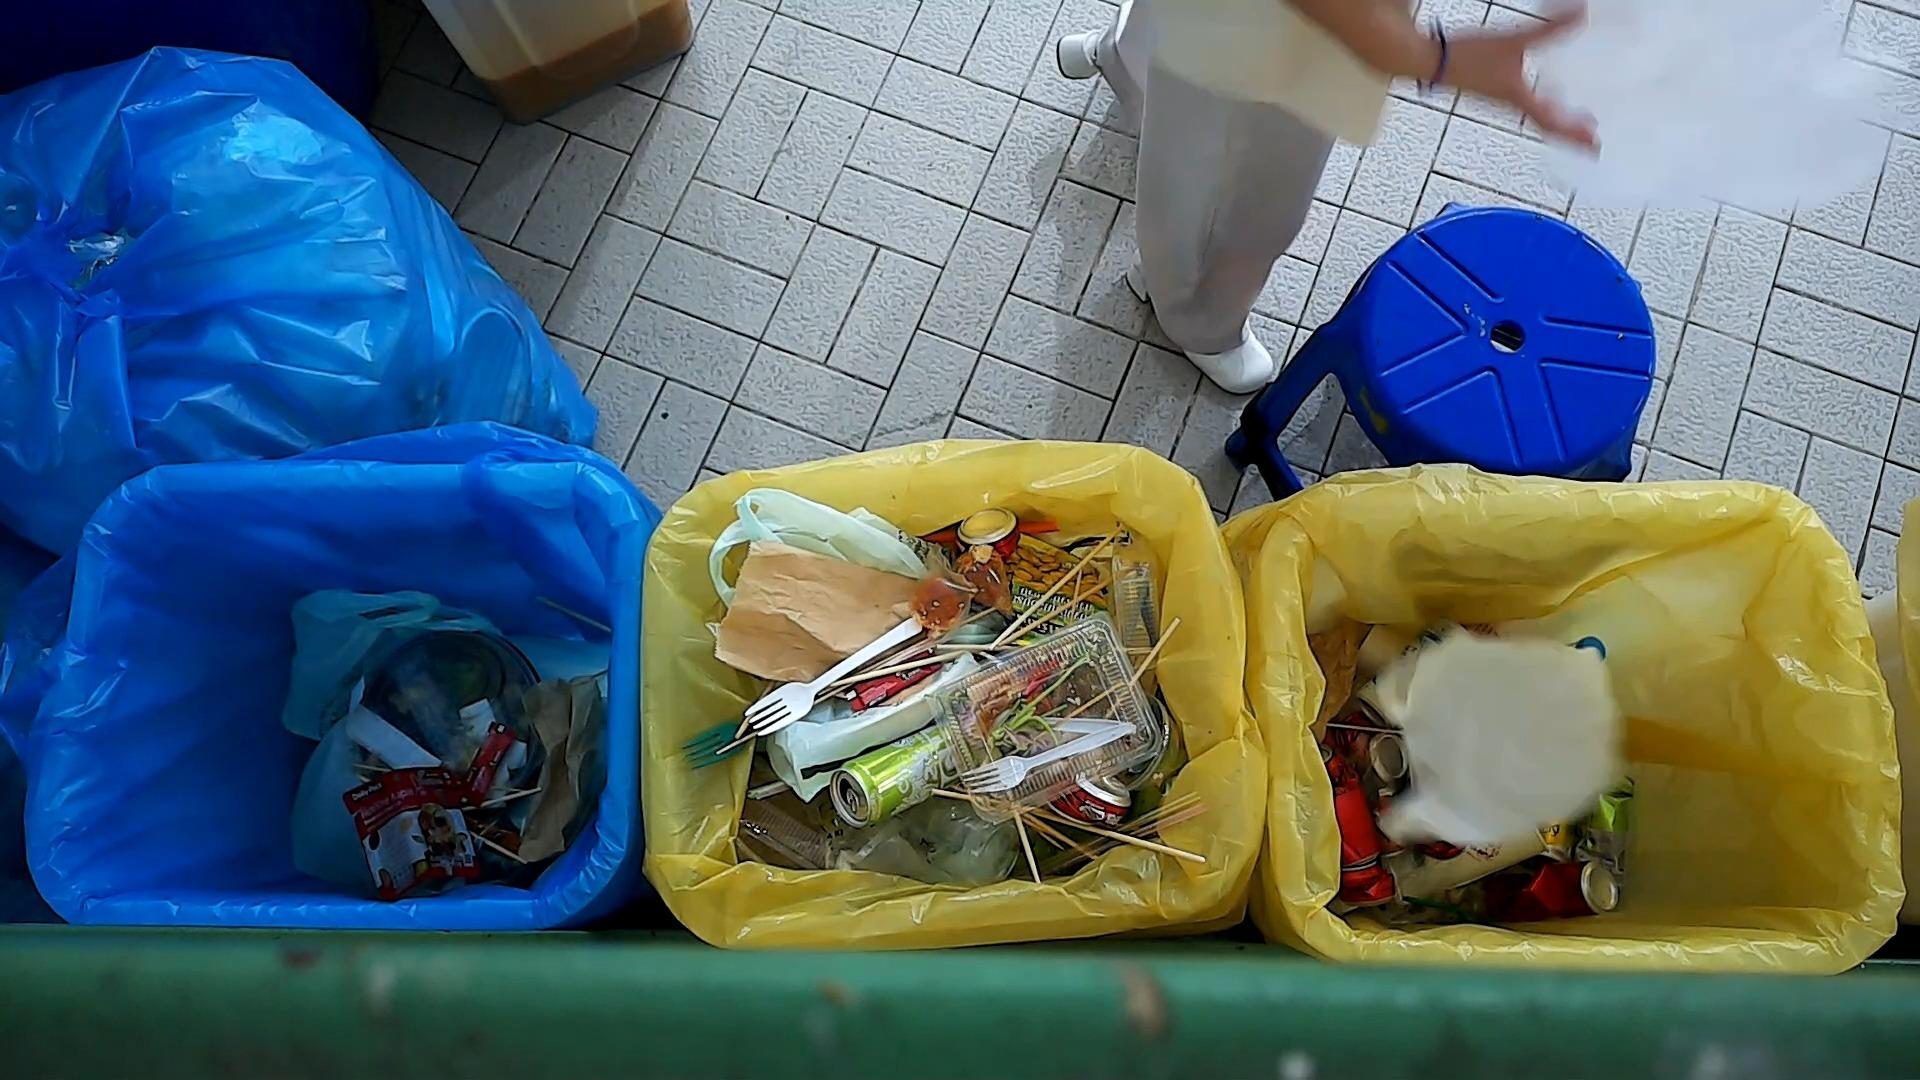can: (829, 724, 956, 829), (1523, 857, 1622, 918), (1584, 778, 1640, 881), (1331, 765, 1383, 874), (956, 500, 1027, 576), (1337, 857, 1407, 918), (1340, 731, 1408, 787)
dirty food container: (927, 617, 1166, 820)
filled plastic bag: (291, 609, 543, 887)
food container: (737, 787, 843, 868), (1106, 553, 1163, 673)
paper bag: (512, 675, 600, 866), (1309, 622, 1367, 736)
plastic bag: (1385, 653, 1625, 841), (818, 802, 1011, 884)
plastic cutlery: (711, 502, 969, 698), (744, 604, 922, 737), (683, 713, 761, 773)
snack packaging: (335, 760, 484, 901), (1004, 530, 1109, 653), (463, 719, 516, 796)
sticks: (939, 534, 1093, 673), (1026, 804, 1212, 862), (984, 572, 1104, 638), (825, 647, 964, 690), (928, 787, 1048, 828), (1124, 615, 1182, 696), (1005, 804, 1044, 885), (456, 779, 542, 812), (463, 824, 529, 861)
straw: (1031, 787, 1201, 873)
